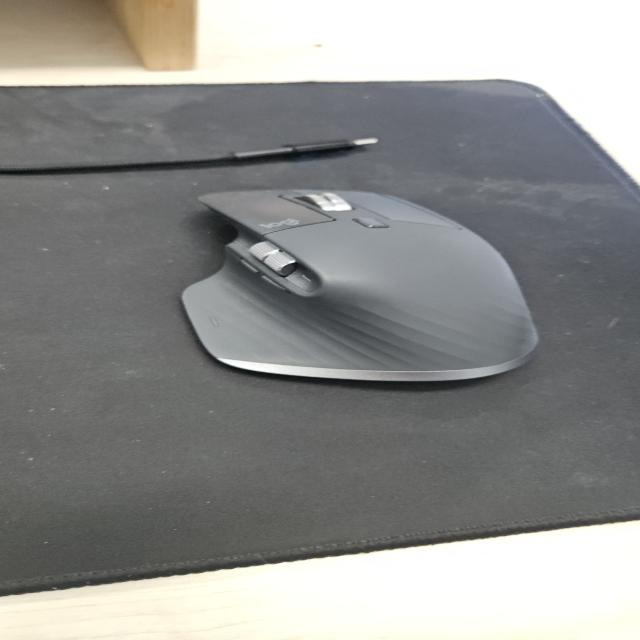Mouse: (178, 185, 542, 384)
